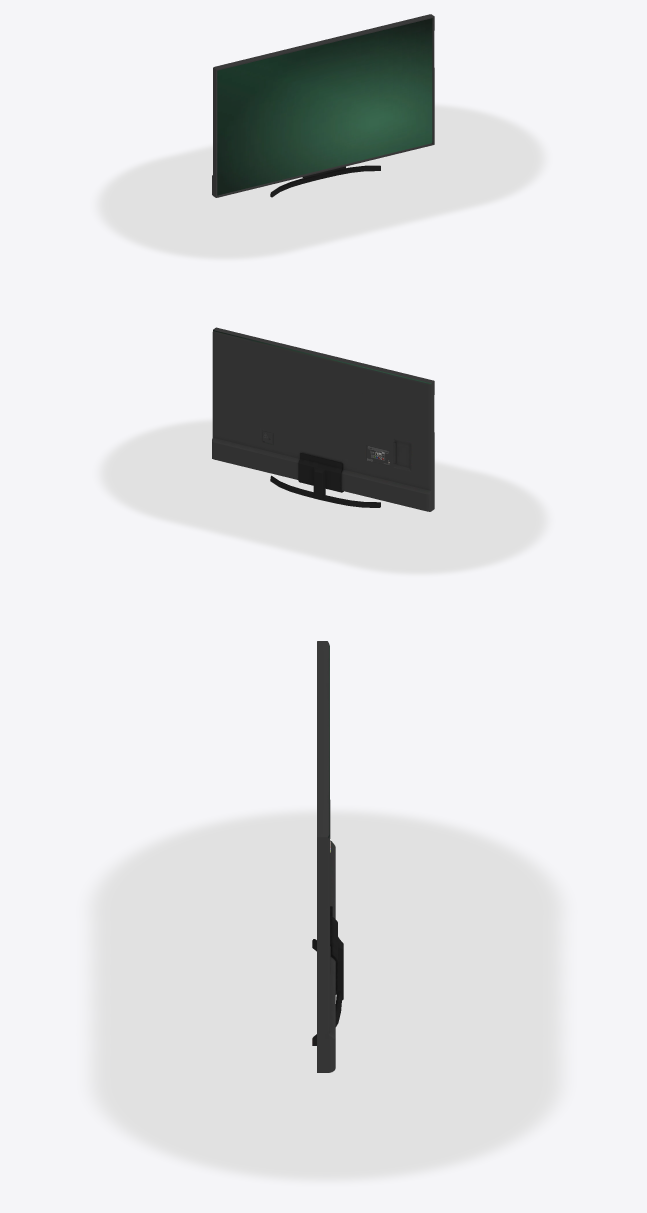
3 views of the same model, one above another, from view 1: azimuth 30°, elevation 25°; view 2: azimuth 150°, elevation 25°; view 3: azimuth 270°, elevation 25° (orthographic). The views are drawn at different scales.
Parts seen in each view (by area): view 1: Object_2, Object_3; view 2: Object_2, Object_3; view 3: Object_2, Object_3.
Boxes of the visible parts, left/top/right/bottom form: Object_2: left=93, top=103, right=549, bottom=260; Object_3: left=212, top=14, right=434, bottom=197; Object_2: left=96, top=418, right=551, bottom=575; Object_3: left=212, top=327, right=434, bottom=511; Object_2: left=83, top=807, right=570, bottom=1184; Object_3: left=312, top=641, right=343, bottom=1072.
Size of the model in its own units: 32.97 by 9.83 by 21.37.
Materials: 2 (2 with a texture image).
